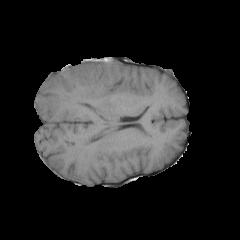glioma: (76, 58, 113, 105)
